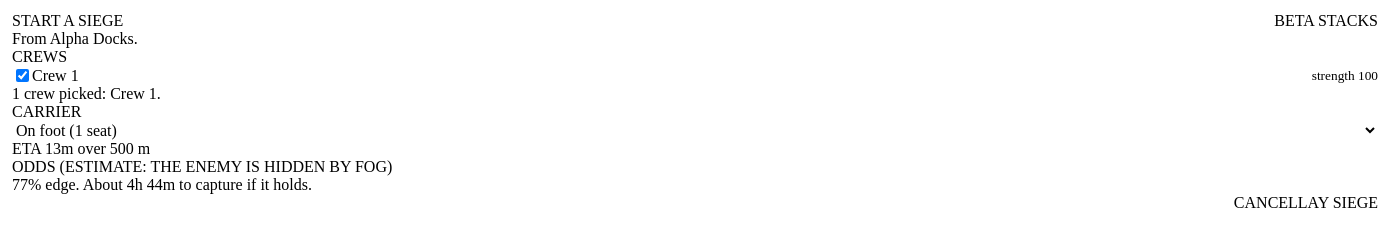
Test: OrderCard › pre-picks the first crew, blocks confirming with none, then posts the order and closes
This screenshot has width=1390, height=247.
Later steps or results of the test are not shown.
Expected: the button "LAY SIEGE" is enabled, [1298,194,1378,212]
Click the checkbox. click: click(22, 76)
box: [16,69,29,82]
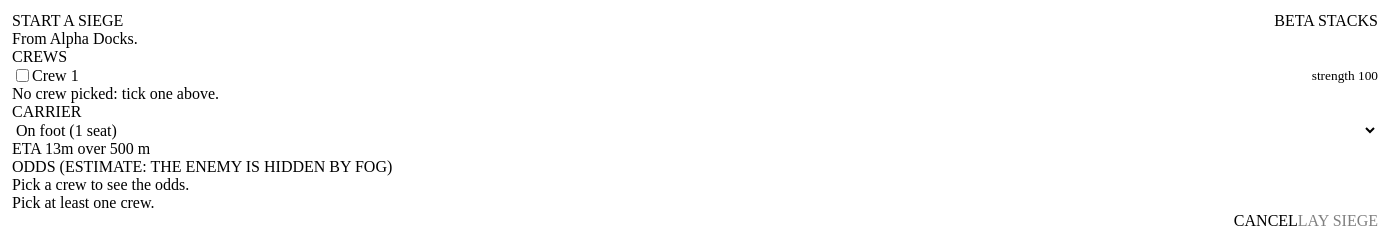
Expected: the button "LAY SIEGE" is disabled, [1298,212,1378,230]
Expected: the text "Pick at least one crew." is shown, [12,194,154,211]
Click the checkbox. click: click(22, 76)
box: [16,69,29,82]
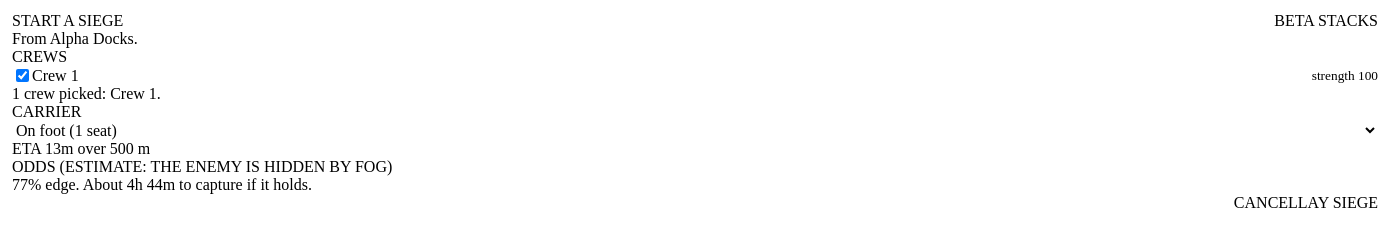
Expected: the button "LAY SIEGE" is enabled, [1298,194,1378,212]
